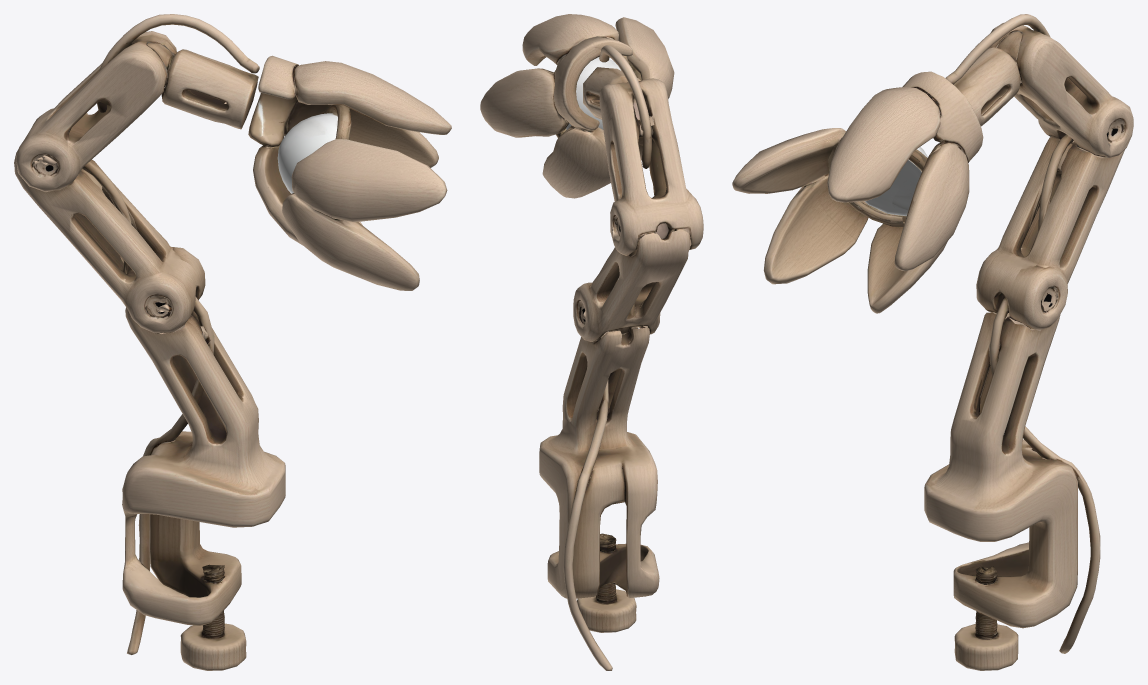
Rendered from clamp_lamp_02.glb.
3 renders of one model, left to right at view 1: azimuth 30°, elevation 25°; view 2: azimuth 150°, elevation 25°; view 3: azimuth 270°, elevation 25°, orthographic. The views are drawn at different scales.
Parts seen in each view (by area): view 1: tripo_part_1, tripo_part_8, tripo_part_2, tripo_part_0, tripo_part_3, tripo_part_6, tripo_part_4, tripo_part_7, tripo_part_9, tripo_part_10; view 2: tripo_part_1, tripo_part_0, tripo_part_3, tripo_part_2, tripo_part_9, tripo_part_8, tripo_part_4, tripo_part_10, tripo_part_6, tripo_part_7; view 3: tripo_part_1, tripo_part_0, tripo_part_2, tripo_part_8, tripo_part_3, tripo_part_6, tripo_part_9, tripo_part_4, tripo_part_7, tripo_part_10, tripo_part_5.
Part boxes in pixels (x1,y1,x2,y2): tripo_part_1: (122,307,285,625); tripo_part_8: (282,139,447,290); tripo_part_2: (14,137,205,333); tripo_part_0: (248,55,451,245); tripo_part_3: (15,31,176,191); tripo_part_6: (146,42,258,129); tripo_part_4: (180,611,246,670); tripo_part_7: (277,113,337,193); tripo_part_9: (127,297,214,654); tripo_part_10: (97,14,259,112); tripo_part_1: (539,327,659,598); tripo_part_0: (480,14,632,198); tripo_part_3: (599,78,703,255); tripo_part_2: (573,229,690,342); tripo_part_9: (563,335,612,670); tripo_part_8: (615,17,674,160); tripo_part_4: (577,583,636,632); tripo_part_10: (599,45,652,168); tripo_part_6: (583,67,640,119); tripo_part_7: (566,57,620,129); tripo_part_1: (924,312,1077,628); tripo_part_0: (827,71,983,313); tripo_part_2: (976,134,1124,329); tripo_part_8: (732,128,868,284); tripo_part_3: (989,22,1133,157); tripo_part_6: (953,31,1022,126); tripo_part_9: (989,297,1100,653); tripo_part_4: (954,611,1018,670); tripo_part_7: (864,147,927,216); tripo_part_10: (945,14,1050,84); tripo_part_5: (828,138,927,226).
Bounding box in the file's own units: 0.5211 × 0.9799 × 0.5552.
16 materials, 16 textured.
